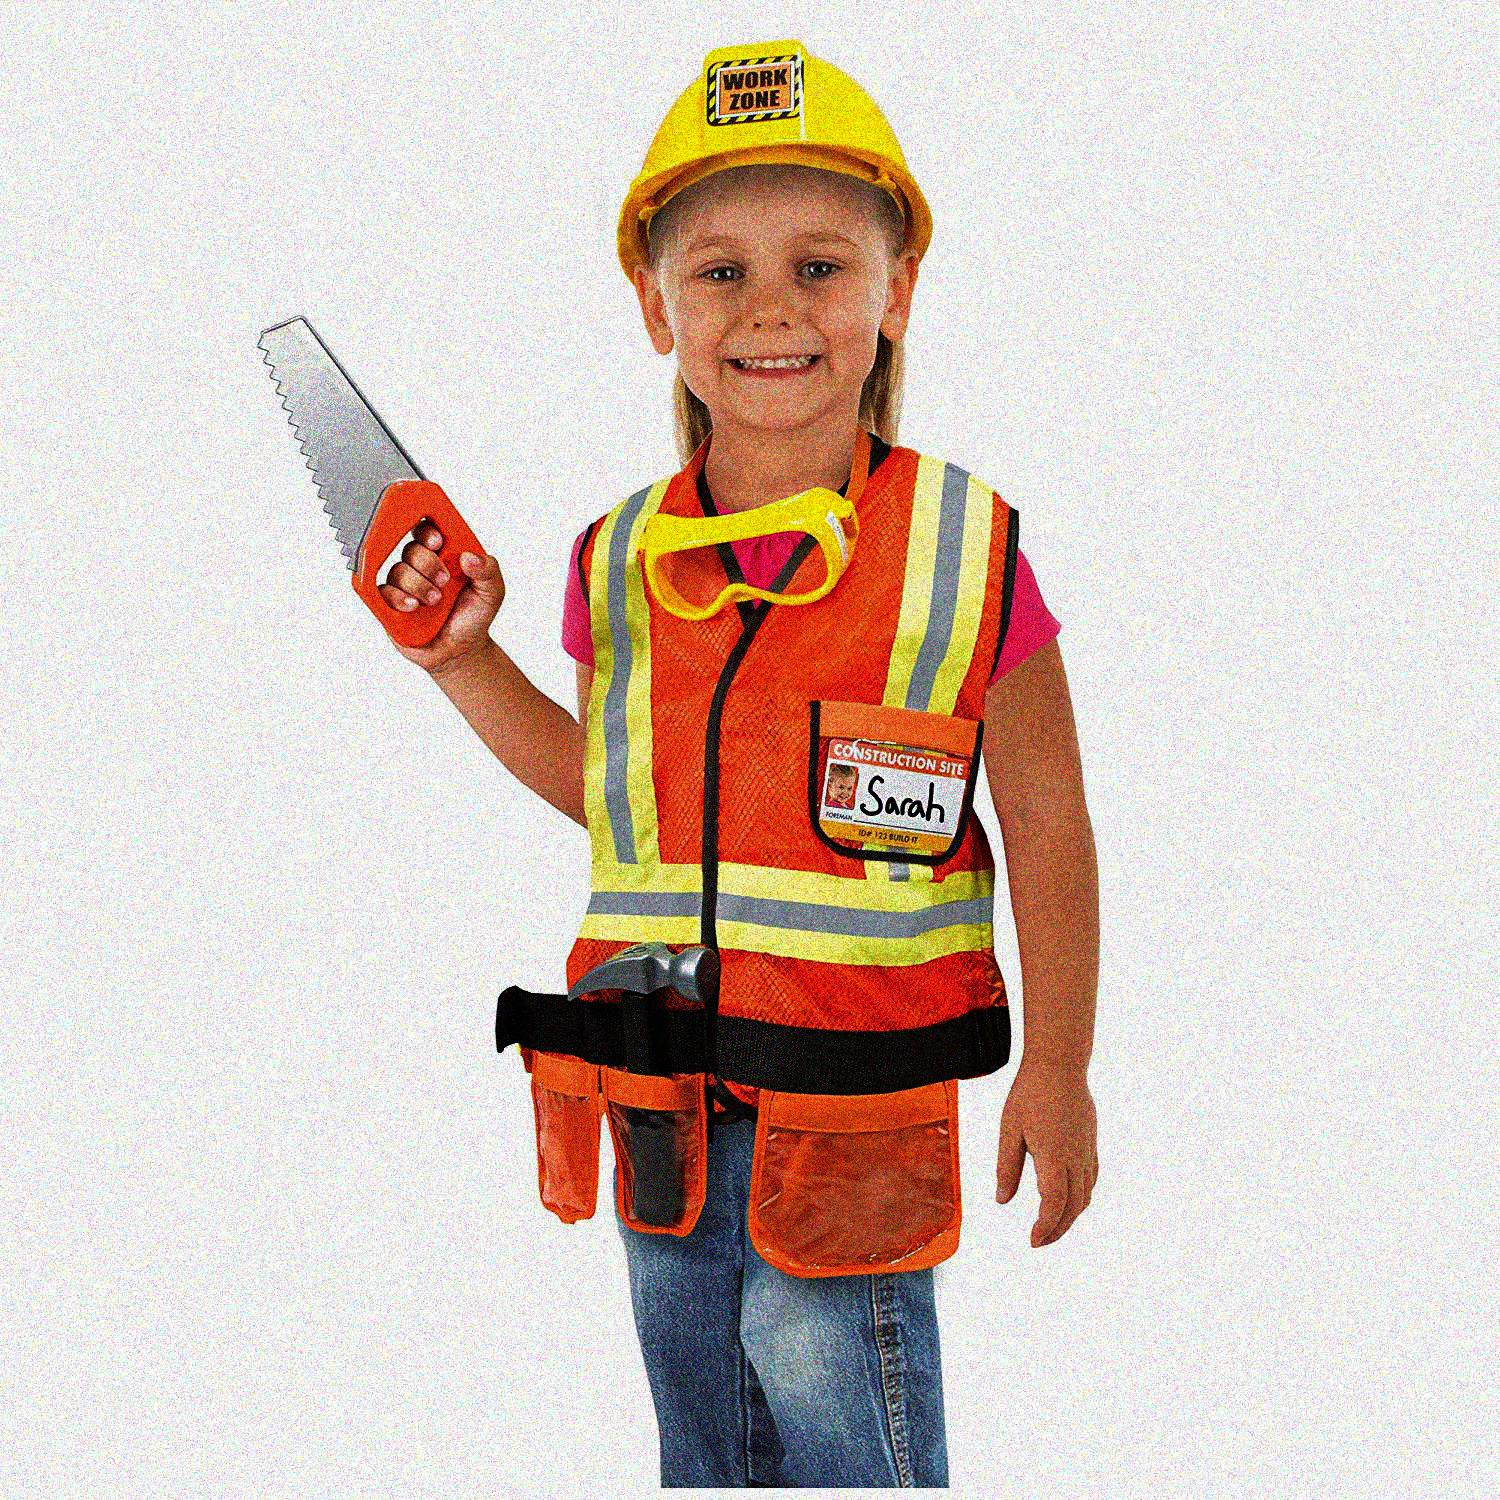helmet: (591, 38, 931, 433)
